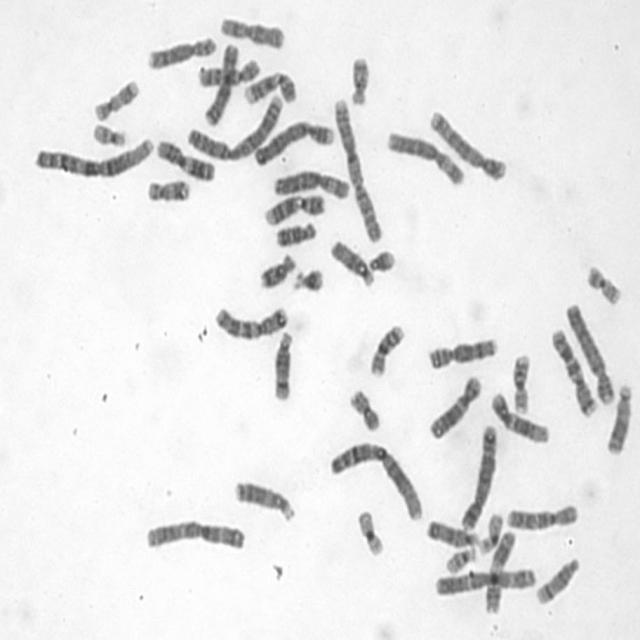A1: (327, 437, 425, 522), (30, 130, 157, 181)
A2: (331, 94, 385, 245), (184, 90, 286, 164)
A3: (142, 516, 248, 554), (432, 564, 536, 598)
B4: (563, 297, 617, 408), (251, 116, 336, 168)
B5: (426, 105, 508, 181), (458, 420, 500, 532)
C10: (503, 498, 579, 531), (195, 54, 261, 89)
C11: (482, 527, 518, 616), (153, 135, 217, 183)
C12: (426, 370, 484, 442), (488, 387, 552, 445)
C6: (383, 126, 467, 188), (271, 166, 351, 201)
C7: (547, 324, 600, 418), (211, 300, 289, 342)
C8: (425, 332, 500, 370), (144, 32, 217, 71)
C9: (262, 189, 328, 228), (240, 67, 298, 106)
D13: (231, 475, 297, 524), (603, 381, 634, 457)
D14: (533, 553, 582, 607), (270, 326, 296, 404)
D15: (327, 236, 376, 288), (424, 516, 481, 550)
E16: (366, 320, 407, 378), (508, 349, 532, 415)
E17: (91, 75, 141, 122), (144, 175, 192, 204)
E18: (256, 250, 298, 291), (273, 218, 319, 247), (348, 52, 371, 107)
F19: (354, 506, 385, 558), (476, 509, 506, 557)
F20: (583, 259, 624, 307), (347, 385, 382, 432)
G21: (288, 262, 325, 295), (366, 246, 397, 274)
G22: (443, 544, 478, 575), (90, 120, 128, 148)
X: (201, 39, 240, 127), (217, 13, 287, 50)
